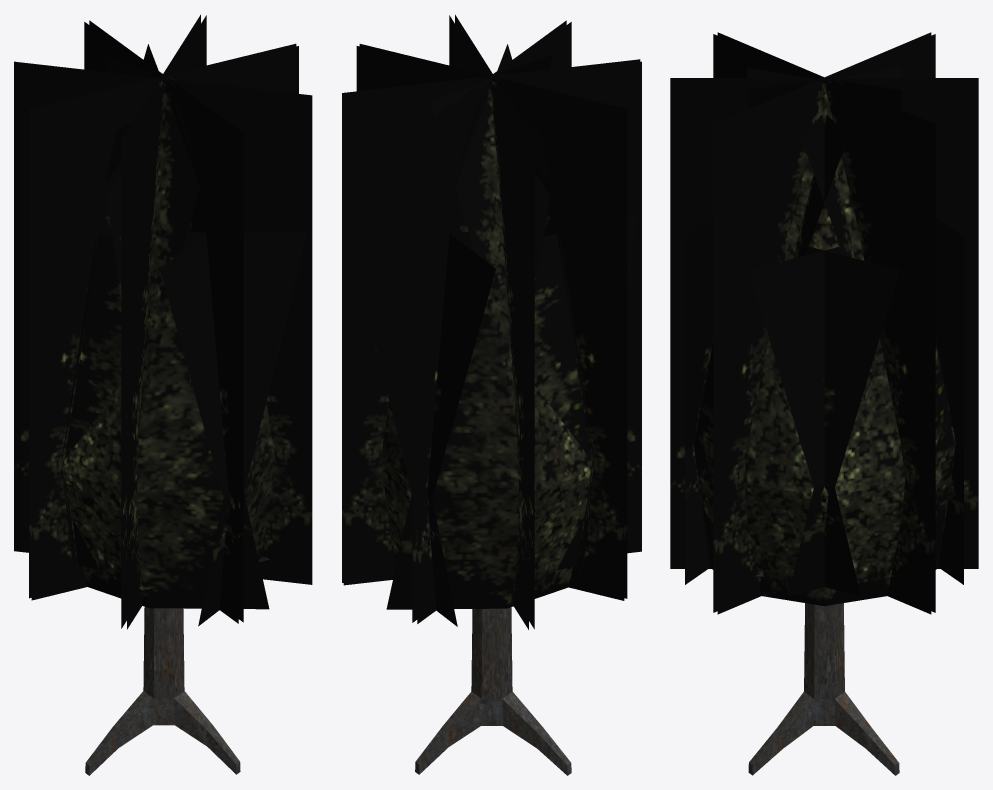
Rendered from tree08.gltf.
3 views of the same model, side by side, from view 1: azimuth 30°, elevation 25°; view 2: azimuth 150°, elevation 25°; view 3: azimuth 270°, elevation 25° (orthographic).
Visible parts, largest first — view 1: tree08_top, tree08; view 2: tree08_top, tree08; view 3: tree08_top, tree08.
Part boxes in pixels (<box>): tree08_top: <box>14,14,312,629</box>; tree08: <box>85,607,240,775</box>; tree08_top: <box>342,14,641,629</box>; tree08: <box>415,607,571,775</box>; tree08_top: <box>670,32,978,614</box>; tree08: <box>748,603,899,775</box>.
Bounding box in the file's own units: 2.1 × 5.09 × 2.1.
Materials: 1 (1 with a texture image).
